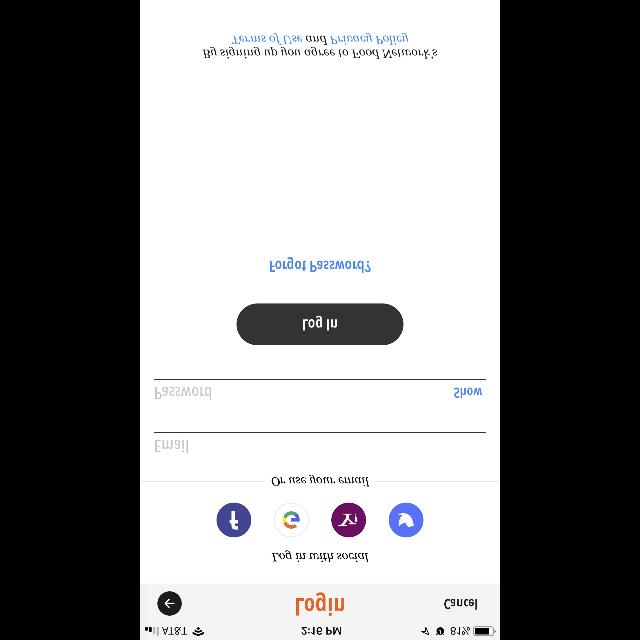icon: (388, 502, 424, 538), (216, 502, 252, 538), (274, 502, 308, 538), (158, 591, 182, 615)
image: (332, 502, 366, 538)
input: (154, 432, 486, 452), (154, 380, 486, 400)
text: (202, 33, 438, 59), (270, 257, 370, 273), (296, 592, 344, 616), (272, 550, 368, 562), (272, 474, 368, 486), (156, 386, 212, 400), (444, 598, 478, 610), (156, 440, 188, 452), (454, 388, 482, 398)
textbutton: (236, 303, 404, 345)
uppertaskbar: (140, 626, 500, 640)
